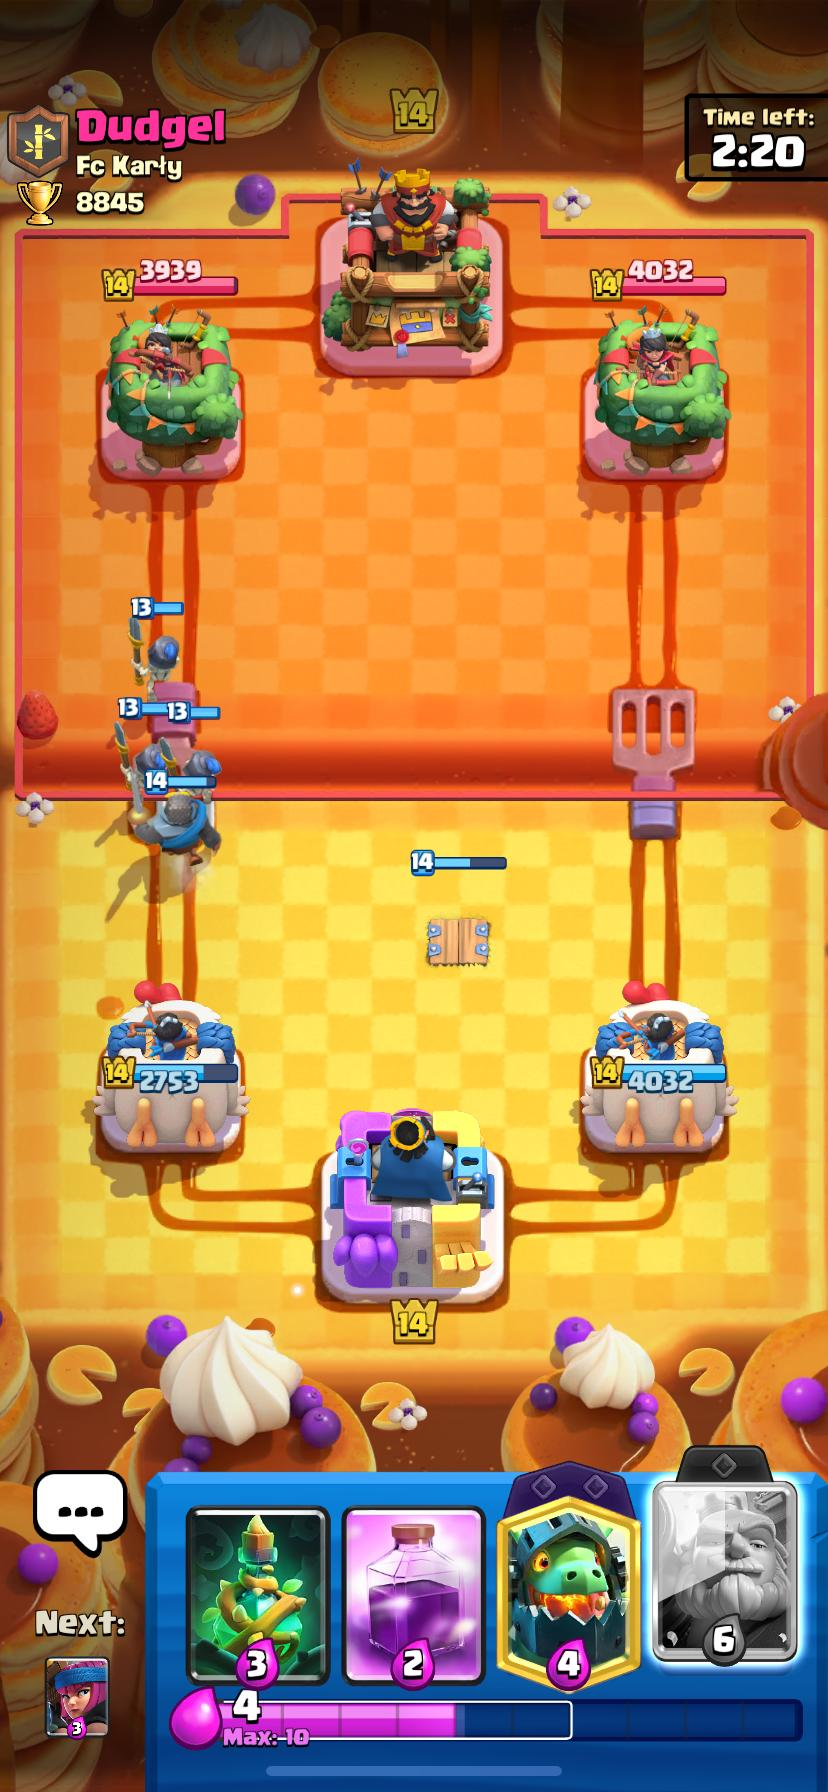EKingTower: (323, 170, 491, 357)
EnemyPrincessTower: (594, 312, 730, 473), (106, 310, 241, 466)
OGuard: (129, 617, 178, 680), (122, 738, 170, 787), (181, 750, 220, 779)
OKnight: (135, 790, 218, 869)
OTesla: (427, 918, 489, 965)
OwnKingTower: (331, 1109, 493, 1301)
OwnPrincessTower: (580, 982, 735, 1151), (95, 983, 247, 1151)
